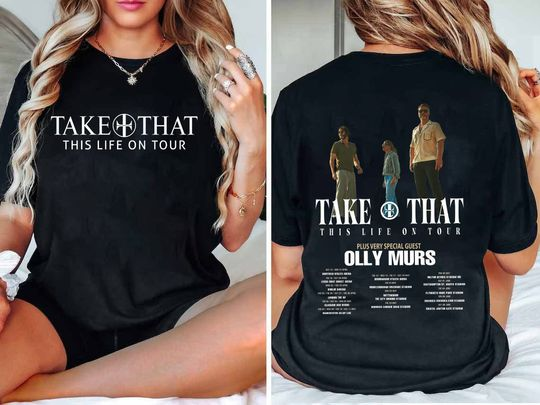design: (313, 100, 467, 316), (47, 112, 200, 152)
